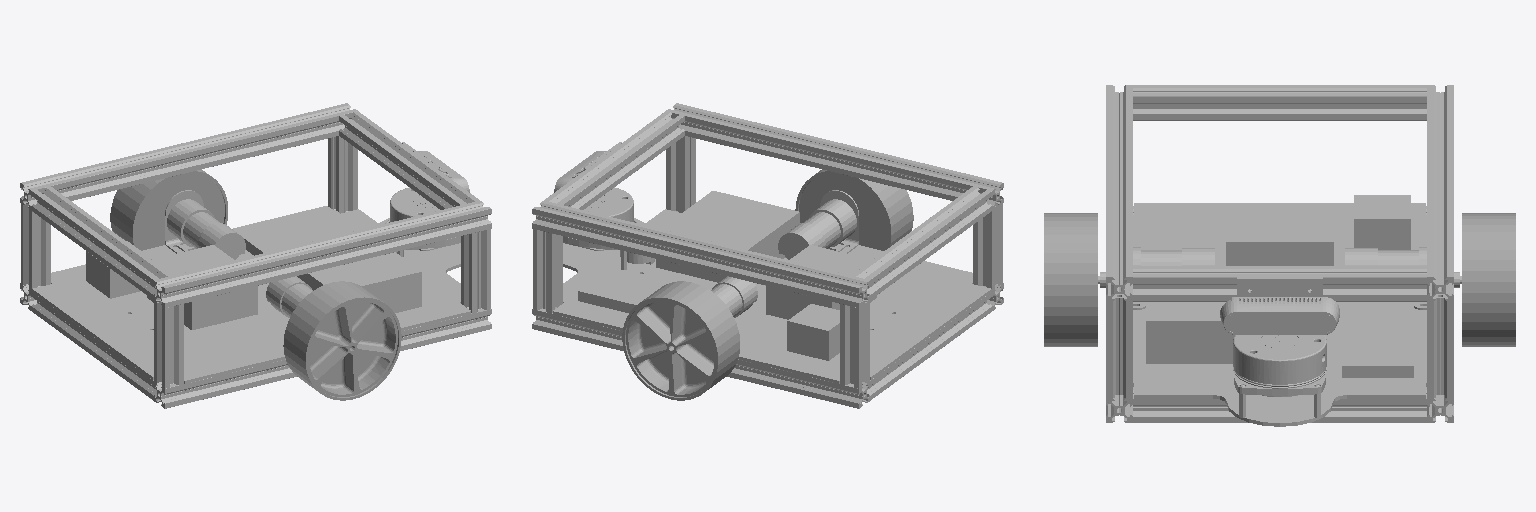
URDF robot description (neobot):
<?xml version="1.0" ?>

<robot name="neobot">

  <link name="base_footprint">
  </link>

  <joint name="base_footprint_joint"
    type="fixed">
    <origin
      xyz="0 0 0.0345"
      rpy="0 0 0" />
    <parent
      link="base_footprint" />
    <child
      link="base_link" />
  </joint>

  <link name="base_link">
    <inertial>
      <origin
        xyz="0.019736266638338499 -0.00103592208239938 0.024943774276299499"
        rpy="0 0 0" />
      <mass
        value="2.886" />
      <inertia
        ixx="0.0230886"
        ixy="0.00059632880"
        ixz="0.00089059654"
        iyy="0.040993868"
        iyz="-0.00001729413"
        izz="0.056762850" />
    </inertial>
    <visual>
      <origin
        xyz="0 0 0"
        rpy="0 0 0" />
      <geometry>
        <mesh
          filename="package://basic_mobile_robot/meshes/neobot/base_link.STL" />
      </geometry>
      <material
        name="">
        <color
          rgba="0.752941176470588 0.752941176470588 0.752941176470588 1" />
      </material>
    </visual>
    <collision>
      <origin
        xyz="0 0 0"
        rpy="0 0 0" />
      <geometry>
        <mesh
          filename="package://basic_mobile_robot/meshes/neobot/base_link.STL" />
      </geometry>
    </collision>
  </link>


  <link name="left_wheel_link">
    <inertial>
      <origin
        xyz="0 0.015369 0"
        rpy="0 0 0" />
      <mass
        value="0.132" />
      <inertia
        ixx="0.000103824895"
        ixy="0"
        ixz="0"
        iyy="0.000183869513"
        iyz="0"
        izz="0.000103824895" />
    </inertial>
    <visual>
      <origin
        xyz="0 0 0"
        rpy="0 0 0" />
      <geometry>
        <mesh
          filename="package://basic_mobile_robot/meshes/neobot/left_wheel_link.STL" />
      </geometry>
      <material
        name="">
        <color
          rgba="0.69804 0.69804 0.69804 1" />
      </material>
    </visual>
    <collision>
      <origin
        xyz="0 0 0"
        rpy="0 0 0" />
      <geometry>
        <mesh
          filename="package://basic_mobile_robot/meshes/neobot/left_wheel_link.STL" />
      </geometry>
    </collision>
  </link>

  <joint name="left_wheel_joint"
    type="continuous">
    <origin
      xyz="0 0.136 0.0155"
      rpy="0 0 0" />
    <parent
      link="base_link" />
    <child
      link="left_wheel_link" />
    <axis
      xyz="0 1 0" />
    <limit
      effort="1"
      velocity="1" />
  </joint>


  <link name="right_wheel_link">
    <inertial>
      <origin
        xyz="0 -0.015369 0"
        rpy="0 0 0" />
      <mass
        value="0.132" />
      <inertia
        ixx="0.000103824895"
        ixy="0"
        ixz="0"
        iyy="0.000183869513"
        iyz="0"
        izz="0.000103824895" />
    </inertial>
    <visual>
      <origin
        xyz="0 0 0"
        rpy="0 0 0" />
      <geometry>
        <mesh
          filename="package://basic_mobile_robot/meshes/neobot/right_wheel_link.STL" />
      </geometry>
      <material
        name="">
        <color
          rgba="0.69804 0.69804 0.69804 1" />
      </material>
    </visual>
    <collision>
      <origin
        xyz="0 0 0"
        rpy="0 0 0" />
      <geometry>
        <mesh
          filename="package://basic_mobile_robot/meshes/neobot/right_wheel_link.STL" />
      </geometry>
    </collision>
  </link>

  <joint name="right_wheel_joint"
    type="continuous">
    <origin
      xyz="0 -0.136 0.0155"
      rpy="0 0 0" />
    <parent
      link="base_link" />
    <child
      link="right_wheel_link" />
    <axis
      xyz="0 1 0" />
    <limit
      effort="1"
      velocity="1" />
  </joint>


  <link name="front_castor_link">
    <inertial>
      <origin
        xyz="0 0 0"
        rpy="0 0 0" />
      <mass
        value="0.0138" />
      <inertia
        ixx="0.000000312122139"
        ixy="0"
        ixz="0"
        iyy="0.000000312122139"
        iyz="0"
        izz="0.000000312122139" />
    </inertial>
    <visual>
      <origin
        xyz="0 0 0"
        rpy="0 0 0" />
      <geometry>
        <mesh
          filename="package://basic_mobile_robot/meshes/neobot/front_castor_link.STL" />
      </geometry>
      <material
        name="">
        <color
          rgba="0.64706 0.61961 0.58824 1" />
      </material>
    </visual>
    <collision>
      <origin
        xyz="0 0 0"
        rpy="0 0 0" />
      <geometry>
        <mesh
          filename="package://basic_mobile_robot/meshes/neobot/front_castor_link.STL" />
      </geometry>
    </collision>
  </link>

  <joint name="front_castor_joint"
    type="fixed">
    <origin
      xyz="0.12 0 -0.0265"
      rpy="0 0 0" />
    <parent
      link="base_link" />
    <child
      link="front_castor_link" />
  </joint>


  <link name="rear_castor_link">
    <inertial>
      <origin
        xyz="0 0 0"
        rpy="0 0 0" />
      <mass
        value="0.0138" />
      <inertia
        ixx="0.000000312122139"
        ixy="0"
        ixz="0"
        iyy="0.000000312122139"
        iyz="0"
        izz="0.000000312122139" />
    </inertial>
    <visual>
      <origin
        xyz="0 0 0"
        rpy="0 0 0" />
      <geometry>
        <mesh
          filename="package://basic_mobile_robot/meshes/neobot/rear_castor_link.STL" />
      </geometry>
      <material
        name="">
        <color
          rgba="0.64706 0.61961 0.58824 1" />
      </material>
    </visual>
    <collision>
      <origin
        xyz="0 0 0"
        rpy="0 0 0" />
      <geometry>
        <mesh
          filename="package://basic_mobile_robot/meshes/neobot/rear_castor_link.STL" />
      </geometry>
    </collision>
  </link>

  <joint name="rear_castor_joint"
    type="fixed">
    <origin
      xyz="-0.12 0 -0.0265"
      rpy="0 0 0" />
    <parent
      link="base_link" />
    <child
      link="rear_castor_link" />
  </joint>


  <link name="camera_link" />

  <joint name="camera_joint"
    type="fixed">
    <origin
      xyz="0.19905 0 0.072"
      rpy="0 0 0" />
    <parent
      link="base_link" />
    <child
      link="camera_link" />
    
  </joint>


  <link name="imu_link" />

  <joint name="imu_joint"
    type="fixed">
    <origin
      xyz="0 0 0"
      rpy="0 0 0" />
    <parent
      link="base_link" />
    <child
      link="imu_link" />
    
  </joint>


  <link name="lidar_link" />

  <joint name="lidar_joint"
    type="fixed">
    <origin
      xyz="0.18 0 0.0376"
      rpy="0 0 0" />
    <parent
      link="base_link" />
    <child
      link="lidar_link" />
    
  </joint>


</robot>

--- Render facts (derived) ---
The picture shows the robot from 3 angles, left to right: view 1: azimuth 30°, elevation 25°; view 2: azimuth 150°, elevation 25°; view 3: azimuth 270°, elevation 25°; orthographic projection.
Model neobot with 9 links and 8 joints (2 continuous, 6 fixed), rooted at base_footprint, posed all joints at 0.
Visible links, largest first — view 1: base_link, right_wheel_link, left_wheel_link; view 2: base_link, left_wheel_link, right_wheel_link; view 3: base_link, left_wheel_link, right_wheel_link.
Boxes of the visible links, x1=… form: base_link: x1=20, y1=103, x2=491, y2=408; right_wheel_link: x1=283, y1=281, x2=401, y2=400; left_wheel_link: x1=110, y1=169, x2=227, y2=250; base_link: x1=532, y1=103, x2=1003, y2=408; left_wheel_link: x1=622, y1=281, x2=739, y2=400; right_wheel_link: x1=795, y1=169, x2=913, y2=250; base_link: x1=1098, y1=85, x2=1461, y2=426; left_wheel_link: x1=1462, y1=213, x2=1515, y2=346; right_wheel_link: x1=1044, y1=213, x2=1097, y2=346.
Bounding box of the posed robot: 0.39 × 0.352 × 0.1315 m (x, y, z).
4 mesh visuals loaded from 5 distinct referenced files (4 binary STL); not drawn: 1 (reference not matched to a file when rendering).